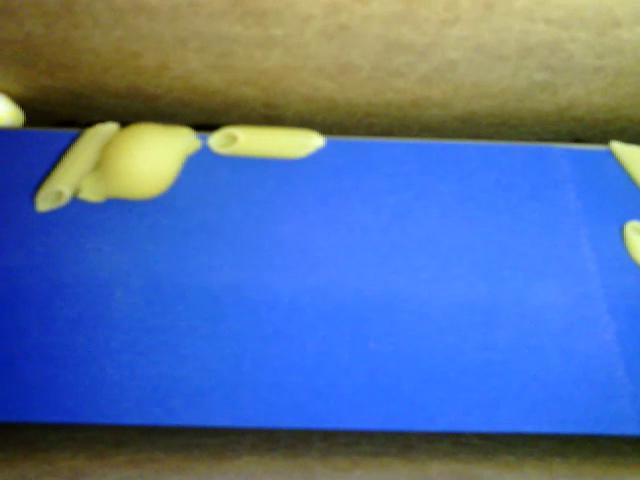penne: (34, 121, 121, 212), (207, 124, 327, 159)
shell: (76, 122, 202, 199)
